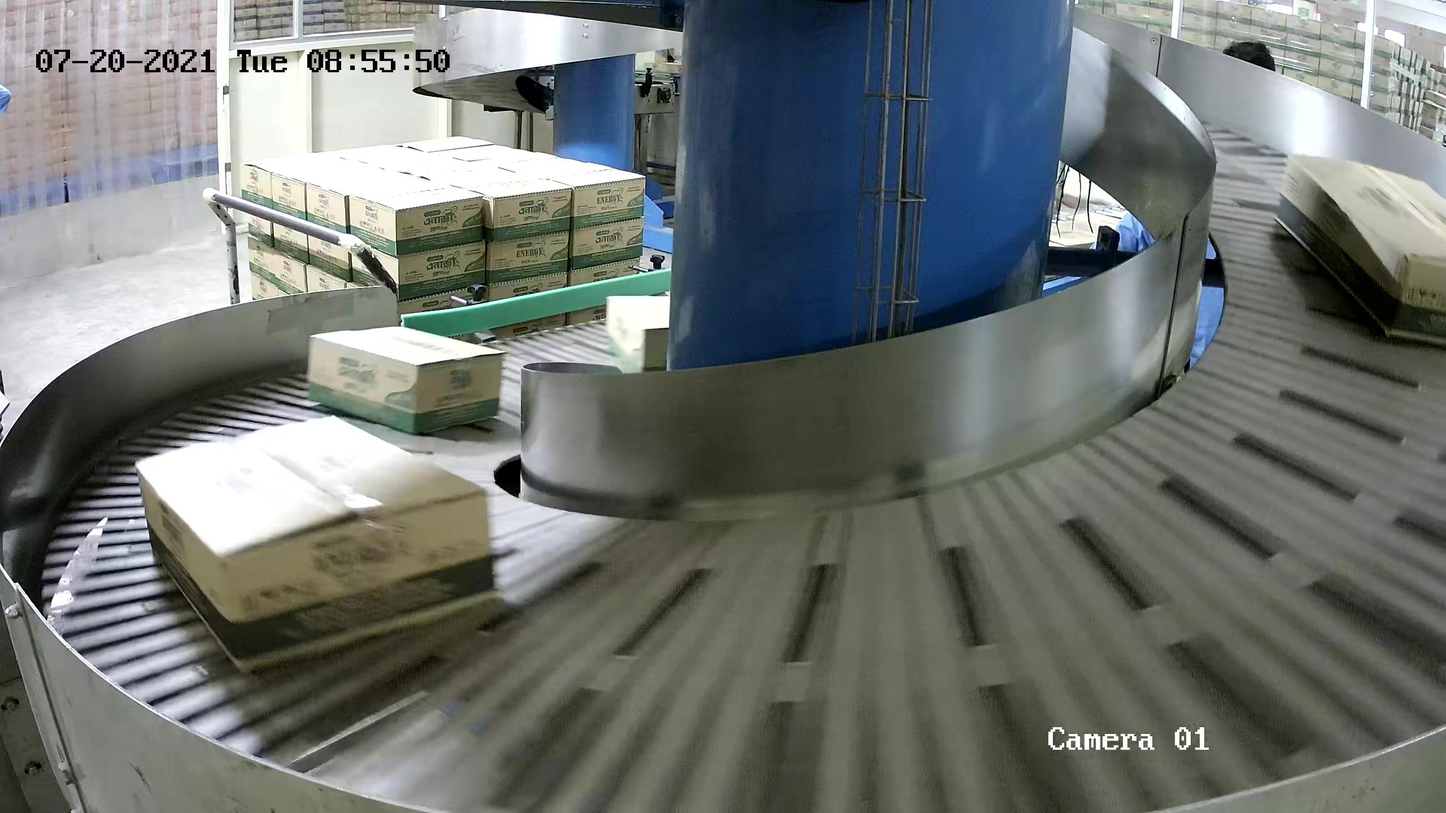Box: (133, 411, 498, 673), (1274, 150, 1446, 351), (305, 324, 510, 436), (604, 293, 673, 375)
